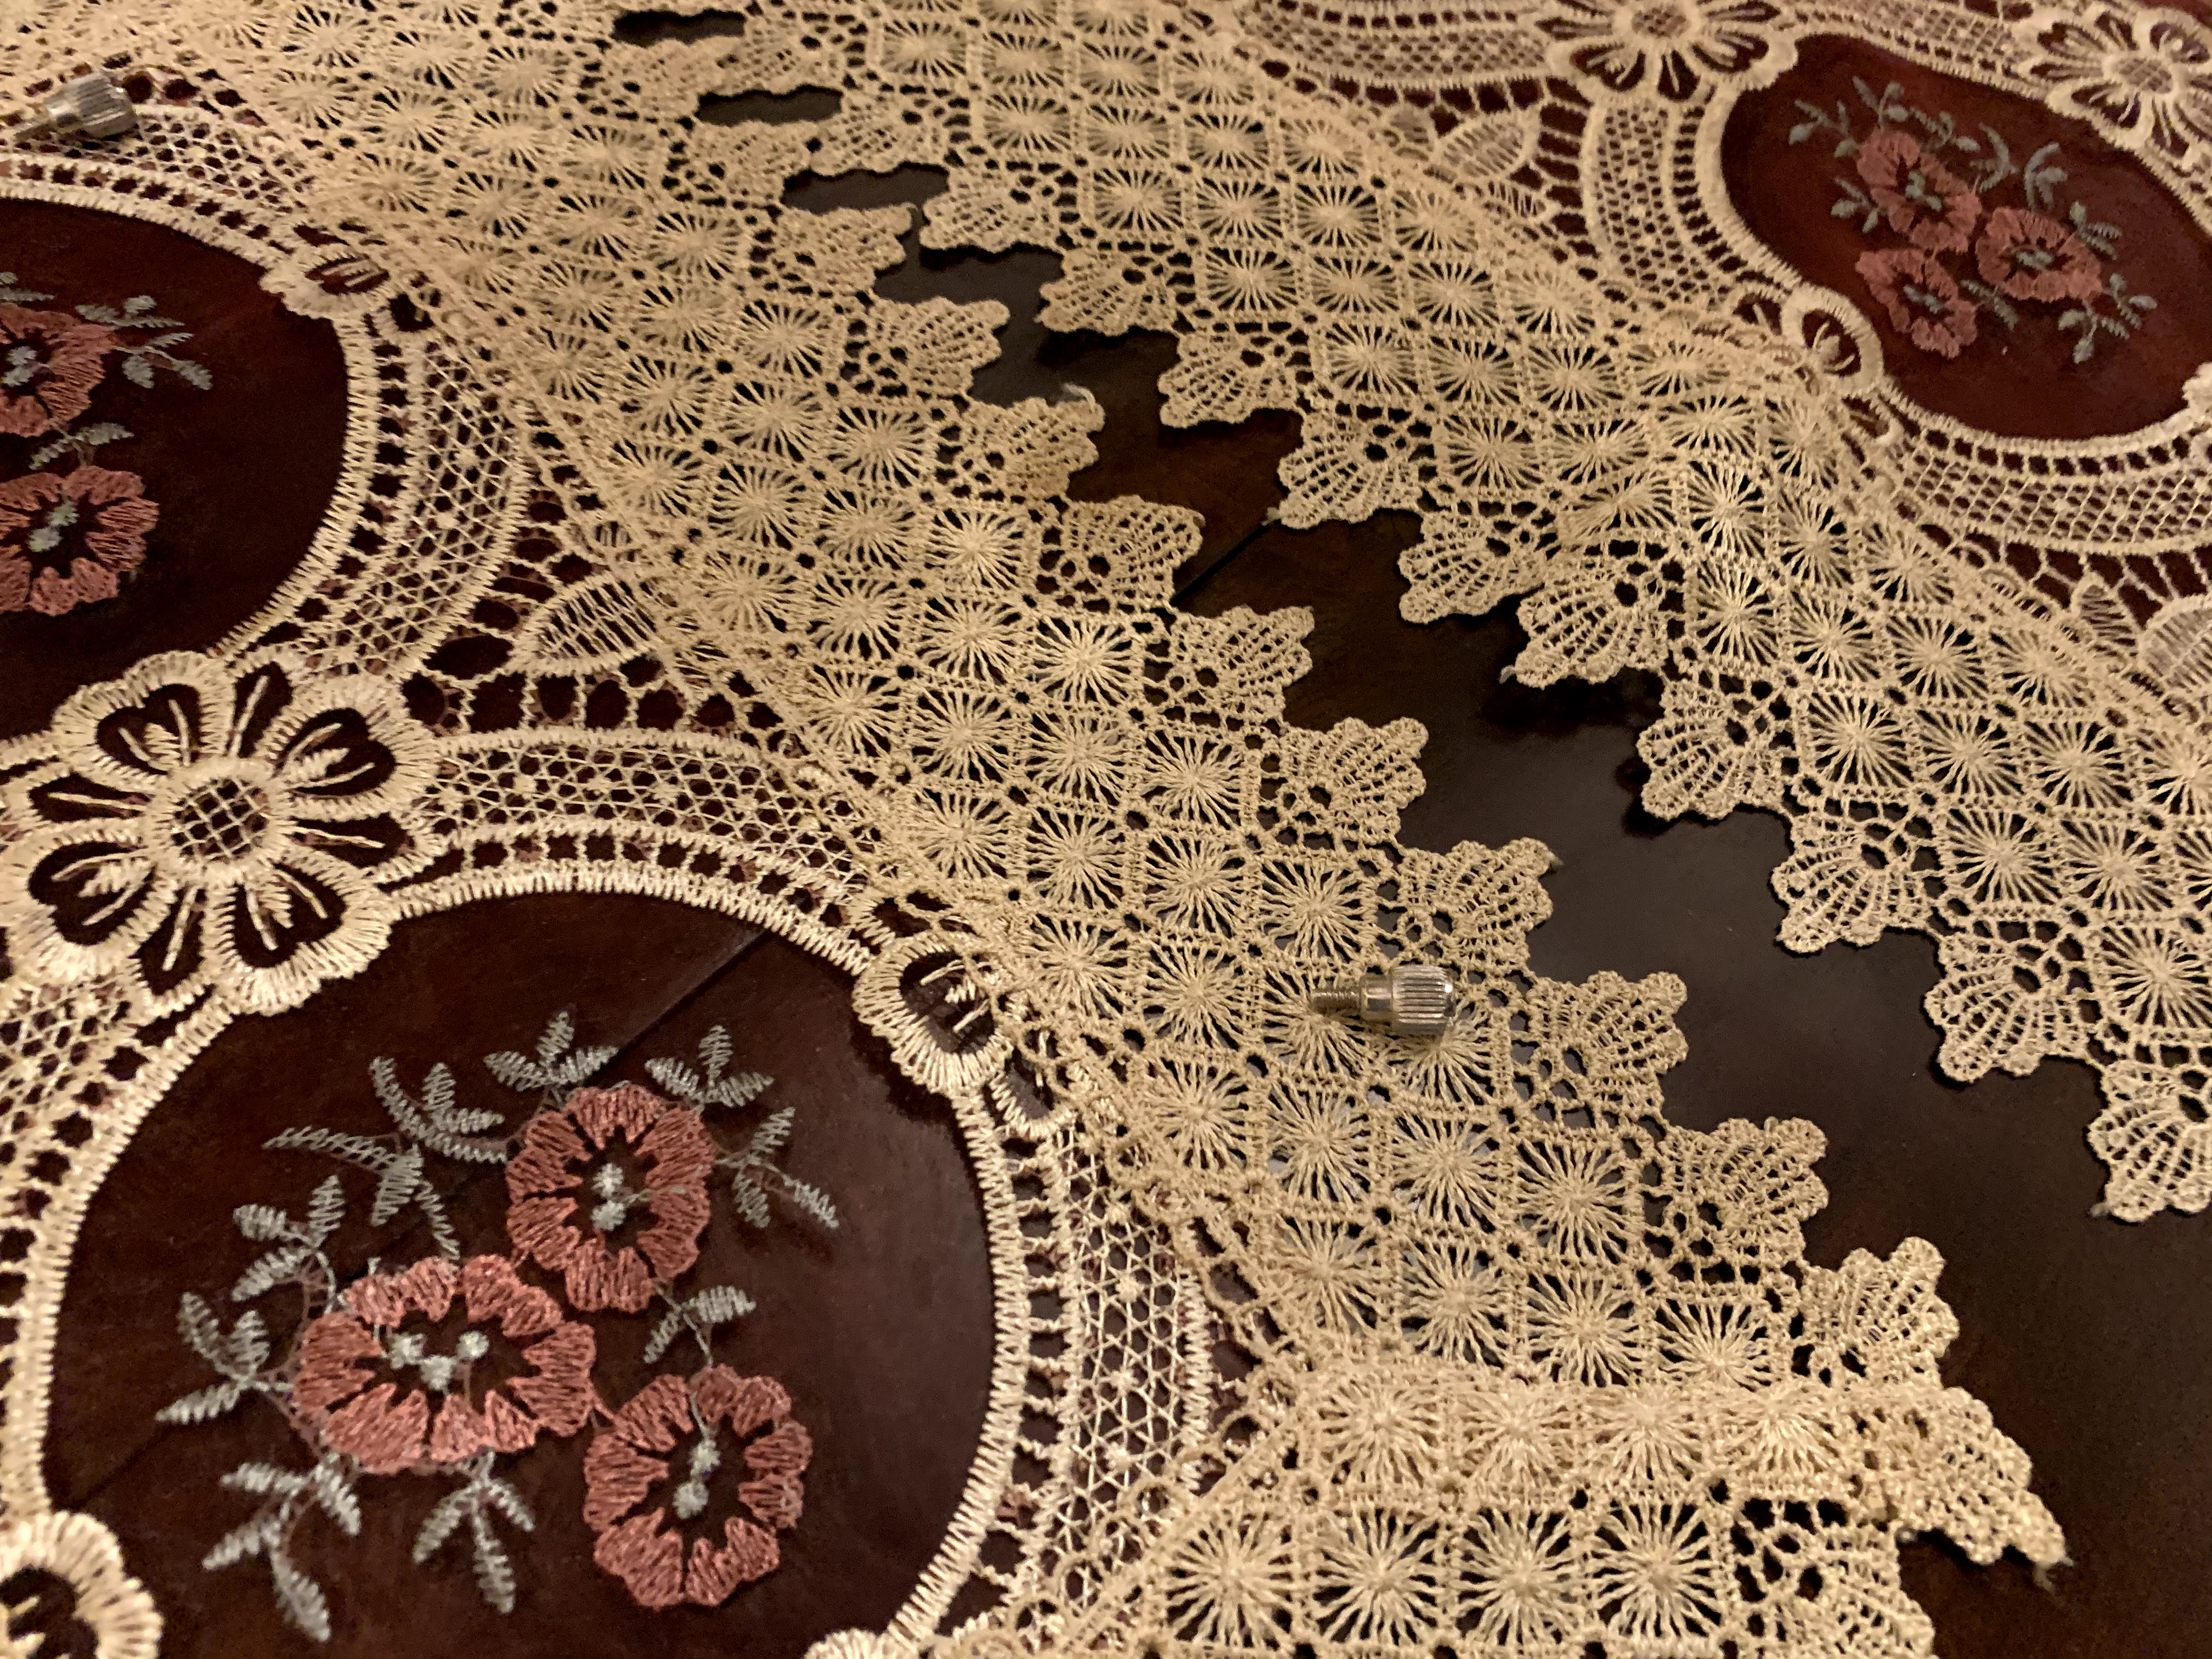Space-debris-small: (1301, 950, 1465, 1051), (5, 66, 155, 157)
